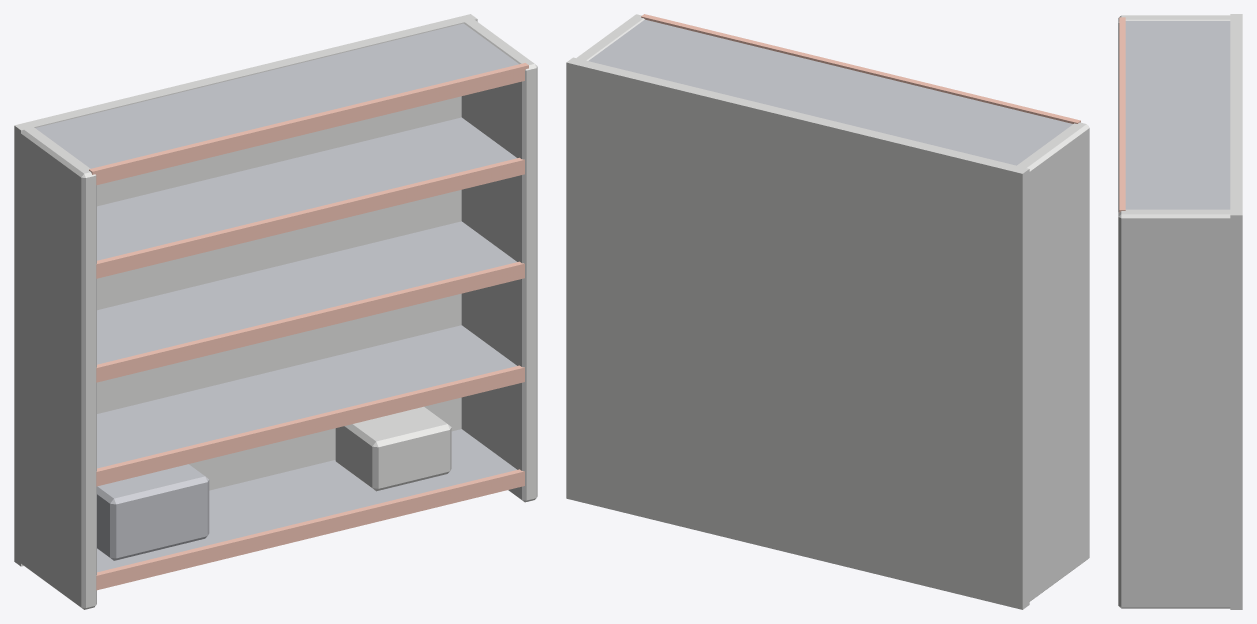
File: lt_shelf_ag.glb
3 renders of one model, left to right at view 1: azimuth 30°, elevation 25°; view 2: azimuth 150°, elevation 25°; view 3: azimuth 270°, elevation 25°, orthographic. The views are drawn at different scales.
Parts seen in each view (by area): view 1: lt_shelf_ag; view 2: lt_shelf_ag; view 3: lt_shelf_ag.
Part boxes in pixels (x1,y1,x2,y2): lt_shelf_ag: [14, 14, 537, 609]; lt_shelf_ag: [566, 14, 1089, 609]; lt_shelf_ag: [1118, 14, 1242, 609].
Bounding box in the file's own units: 2.3 × 2.11 × 0.6.
